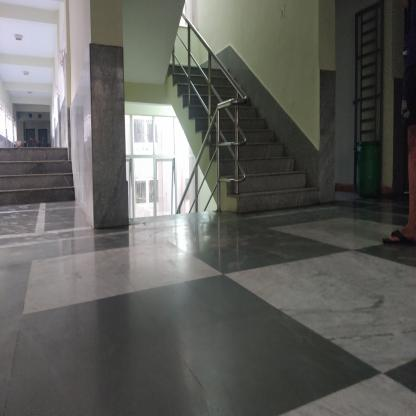stairs: (249, 130, 276, 217)
